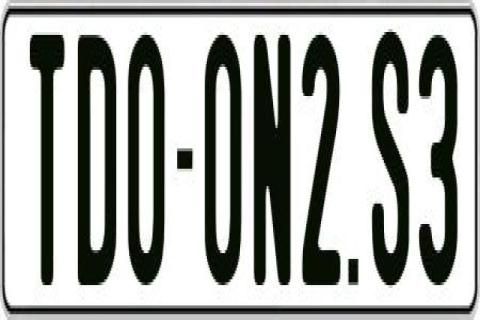0: (126, 35, 170, 294), (302, 32, 345, 288), (417, 35, 460, 285), (205, 35, 241, 294)
D: (78, 29, 116, 285)
N: (252, 26, 290, 276)
S: (370, 29, 408, 285)
T: (29, 32, 67, 294)
